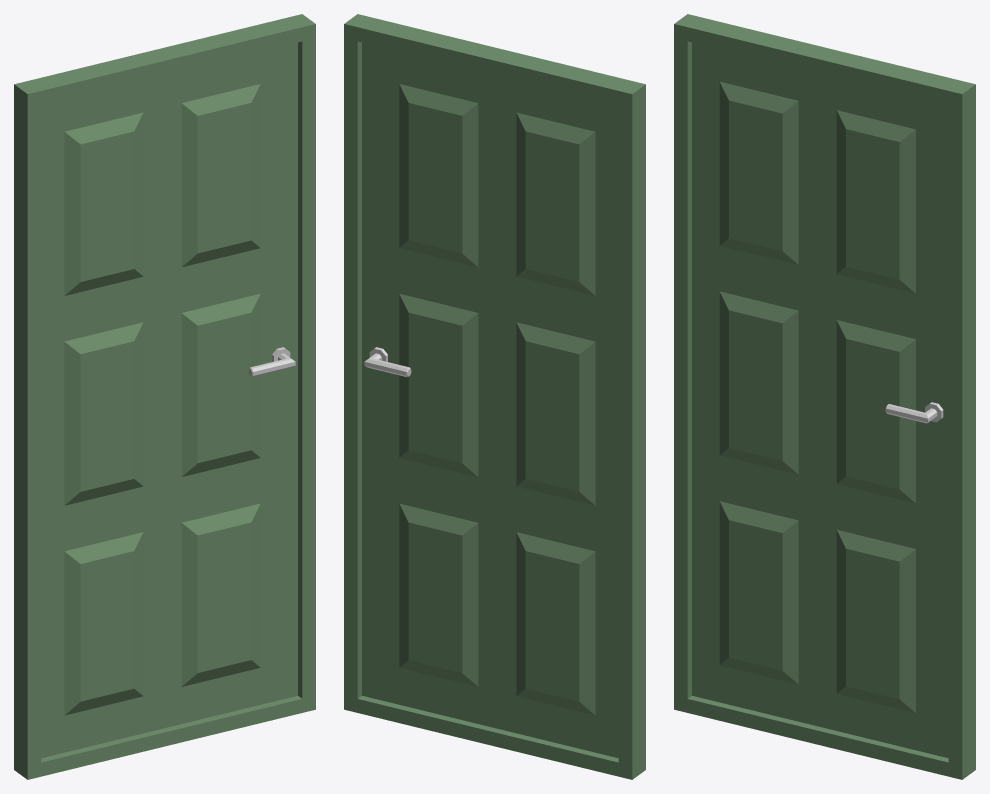
Rendered from Mesh_Door_A12.fbx.
The picture shows the model from 3 angles, left to right: view 1: azimuth 30°, elevation 25°; view 2: azimuth 150°, elevation 25°; view 3: azimuth 330°, elevation 25°; orthographic projection.
Parts seen in each view (by area): view 1: Mesh_Door_A12; view 2: Mesh_Door_A12; view 3: Mesh_Door_A12.
Part boxes in pixels (x1=…): Mesh_Door_A12: x1=14, y1=14, x2=315, y2=779; Mesh_Door_A12: x1=344, y1=14, x2=645, y2=779; Mesh_Door_A12: x1=674, y1=14, x2=975, y2=779.
Size of the model in its own units: 0.9 by 2.05 by 0.1482.
